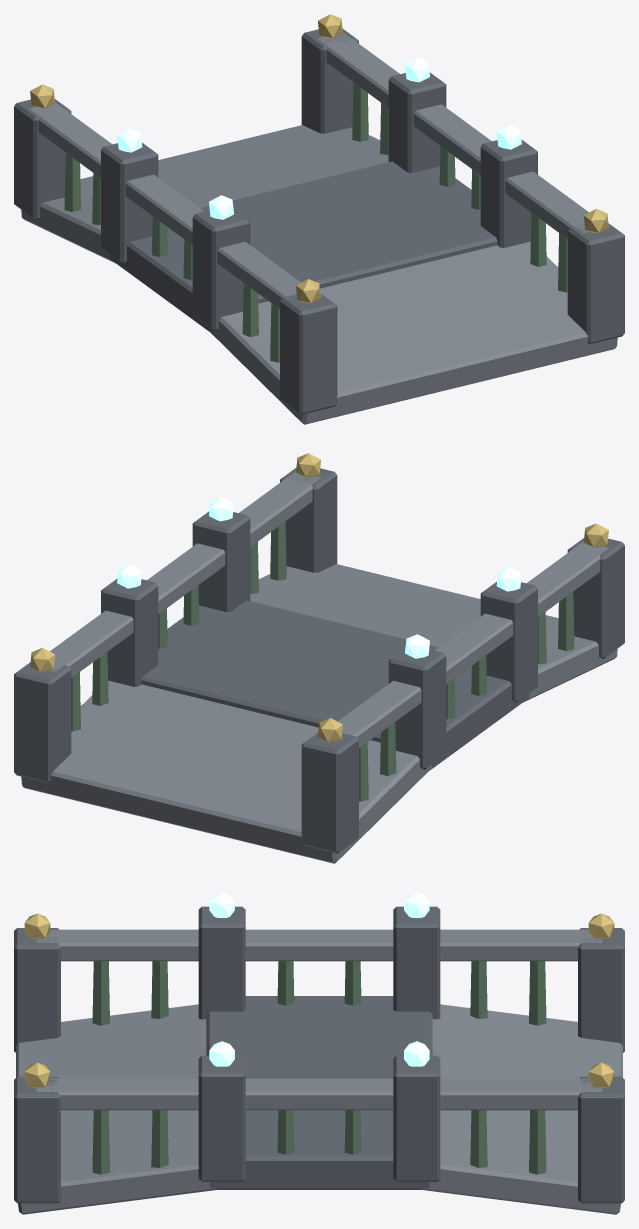
Rendered from outdoor_bridge.glb.
3 views of the same model, one above another, from view 1: azimuth 30°, elevation 25°; view 2: azimuth 150°, elevation 25°; view 3: azimuth 270°, elevation 25° (orthographic). The views are drawn at different scales.
Parts seen in each view (by area): view 1: Outdoor_Bridge; view 2: Outdoor_Bridge; view 3: Outdoor_Bridge.
Part boxes in pixels (x1,y1,x2,y2): Outdoor_Bridge: (14, 14, 624, 424); Outdoor_Bridge: (14, 453, 624, 863); Outdoor_Bridge: (14, 892, 624, 1214).
Size of the model in its own units: 2.38 by 1.1 by 3.64.
